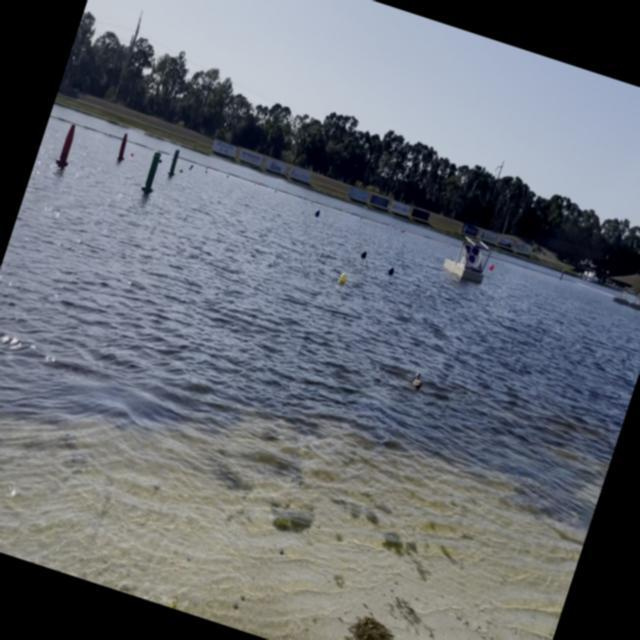buoy: (338, 272, 348, 284), (488, 262, 496, 274), (387, 266, 395, 276), (360, 250, 368, 260), (314, 208, 322, 218), (130, 151, 136, 158), (158, 158, 163, 164)
